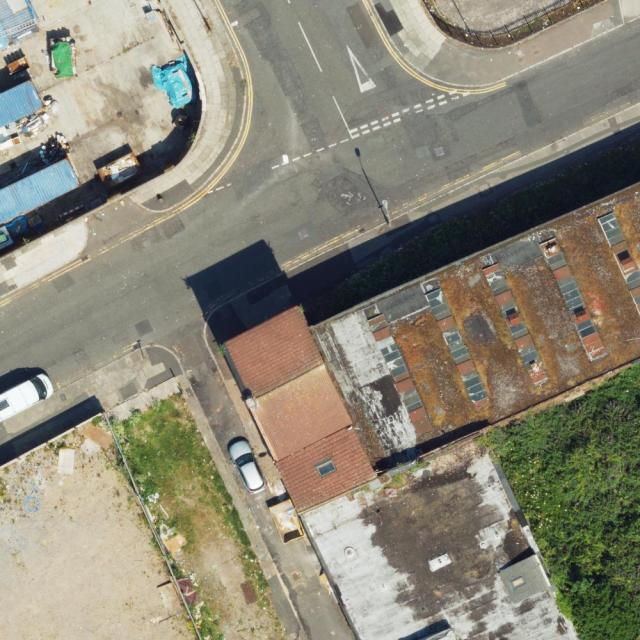roof: (222, 185, 640, 640)
skylight: (440, 324, 473, 364), (555, 276, 588, 315), (457, 368, 491, 404), (598, 209, 627, 247), (381, 343, 410, 380), (424, 286, 452, 322), (397, 387, 426, 415), (482, 271, 509, 297), (518, 344, 542, 372), (575, 316, 601, 340), (547, 250, 571, 270), (318, 458, 338, 478), (624, 270, 640, 293)
